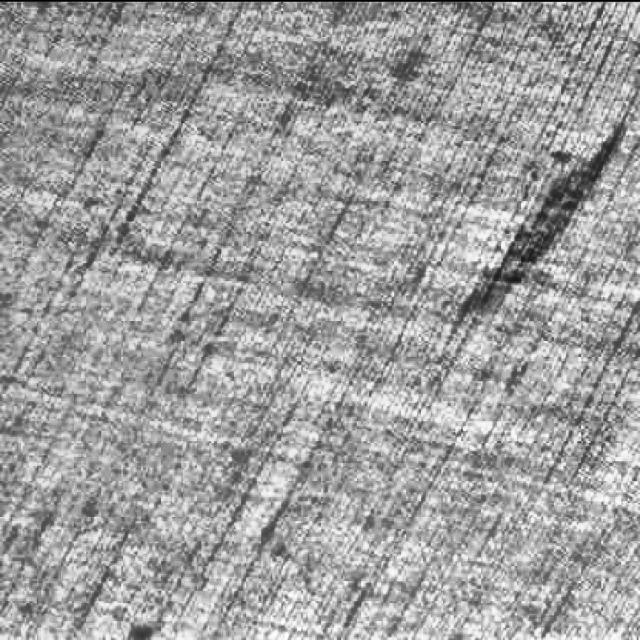oil_spot: (428, 106, 634, 342)
